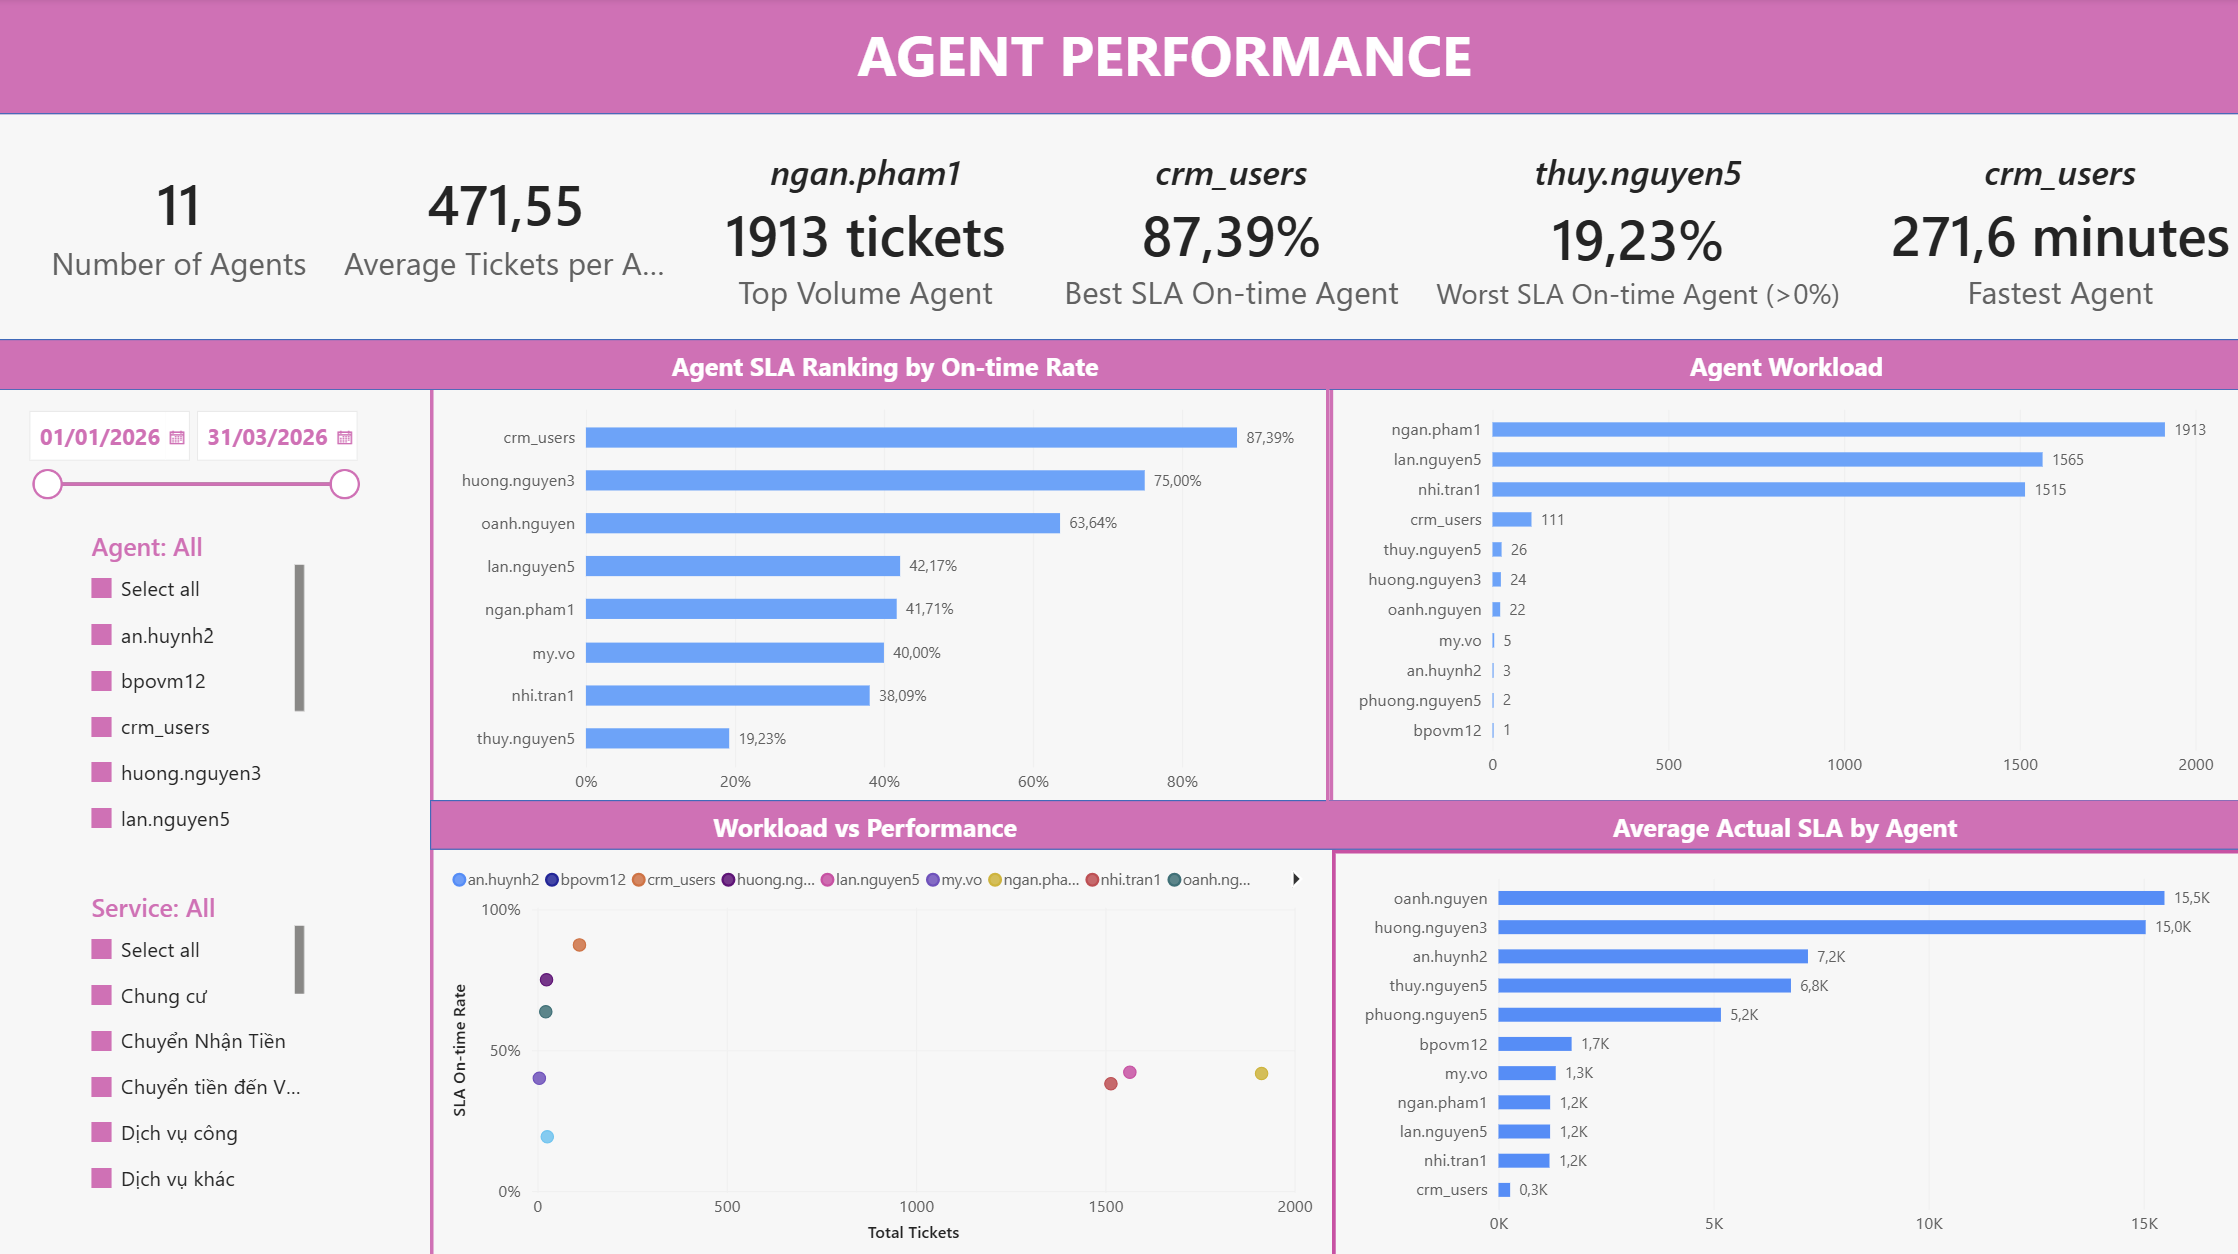

The dashboard page shown, as its layout file describes it:
{"tool":"powerbi","page":{"name":"Agent Performance","canvas":[1920,1080],"ordinal":1},"visuals":[{"type":"cardVisual","fields":{"Data":["Count(Ticket_SLA.Agent_tiep_nhan)"]},"box":[0,97.5,312.5,192.5],"z":0},{"type":"clusteredBarChart","fields":{"Category":["Ticket_SLA.Agent_tiep_nhan"],"Y":["Ticket_SLA.SLA On-time Rate"]},"box":[369.4,328.1,770.4,374.3],"z":1000},{"type":"shape","box":[0,291.6,1920,43.7],"z":2000},{"type":"textbox","box":[400.8,300,715,39.2],"z":3000},{"type":"shape","box":[0,0,1920,100],"z":4000},{"type":"slicer","fields":{"Values":["Ticket_SLA.Created_date"]},"box":[20,348,293,92],"z":5000},{"type":"textbox","box":[1134.2,300,785.8,30],"z":6000},{"type":"textbox","box":[480,15,1035,82.5],"z":7000},{"type":"scatterChart","fields":{"Category":["Ticket_SLA.Agent_tiep_nhan"],"Series":["Ticket_SLA.Agent_tiep_nhan"],"X":["Ticket_SLA.Total Tickets"],"Y":["Ticket_SLA.SLA On-time Rate"]},"box":[370,720,772.5,360],"z":8000},{"type":"shape","box":[370,685,1550,42.5],"z":9000},{"type":"clusteredBarChart","fields":{"Category":["Ticket_SLA.Agent_tiep_nhan"],"Y":["Ticket_SLA.Total Tickets"]},"box":[1135,328.3,786.7,360],"z":10000},{"type":"clusteredBarChart","fields":{"Category":["Ticket_SLA.Agent_tiep_nhan"],"Y":["Avg(Ticket_SLA.Actual_SLA)"]},"box":[1139.8,726.7,780.2,352.4],"z":11000},{"type":"textbox","box":[370,692.5,742.5,35],"z":12000},{"type":"textbox","box":[1138.9,692.1,781.1,27.7],"z":13000},{"type":"cardVisual","fields":{"Data":["Ticket_SLA.Average Tickets per Agent"]},"box":[285,97.5,300,192.5],"z":17000},{"type":"cardVisual","fields":{"Data":["Ticket_SLA.Top Volume Agent","Ticket_SLA.Top Volume Agent Tickets"]},"box":[573.6,68.1,337.8,243],"z":18000},{"type":"cardVisual","fields":{"Data":["Ticket_SLA.Fastest Agent","Ticket_SLA.Fastest Agent Avg SLA"]},"box":[1601.6,68.1,318.4,243],"z":19000},{"type":"cardVisual","fields":{"Data":["Ticket_SLA.Best Agent","Ticket_SLA.Best Agent SLA Rate"]},"box":[884.7,68.1,337.8,243],"z":20000},{"type":"cardVisual","fields":{"Data":["Ticket_SLA.Worst Agent","Ticket_SLA.Worst Agent SLA Rate"]},"box":[1223.3,68.3,355,243.3],"z":21000},{"type":"slicer","fields":{"Values":["Ticket_SLA.Agent_tiep_nhan"]},"box":[72.9,454.5,189.6,272.2],"z":22000},{"type":"slicer","fields":{"Values":["Ticket_SLA.Level"]},"box":[72.9,760.7,189.6,274.6],"z":23000}]}

Visuals, with their boxes in screenshot pixels (x1, y1, x2, y2), scaled from the page's 1920x1080 canvas onto the 2238x1254 screenshot:
cardVisual - Count(Ticket_SLA.Agent_tiep_nhan): {"x1": 0, "y1": 113, "x2": 364, "y2": 337}
clusteredBarChart - Ticket_SLA.Agent_tiep_nhan x Ticket_SLA.SLA On-time Rate: {"x1": 431, "y1": 381, "x2": 1329, "y2": 816}
shape: {"x1": 0, "y1": 339, "x2": 2237, "y2": 389}
textbox: {"x1": 467, "y1": 348, "x2": 1301, "y2": 394}
shape: {"x1": 0, "y1": 0, "x2": 2237, "y2": 116}
slicer - Ticket_SLA.Created_date: {"x1": 23, "y1": 404, "x2": 365, "y2": 511}
textbox: {"x1": 1322, "y1": 348, "x2": 2237, "y2": 383}
textbox: {"x1": 560, "y1": 17, "x2": 1766, "y2": 113}
scatterChart - Ticket_SLA.Agent_tiep_nhan x Ticket_SLA.Agent_tiep_nhan: {"x1": 431, "y1": 836, "x2": 1332, "y2": 1253}
shape: {"x1": 431, "y1": 795, "x2": 2237, "y2": 845}
clusteredBarChart - Ticket_SLA.Agent_tiep_nhan x Ticket_SLA.Total Tickets: {"x1": 1323, "y1": 381, "x2": 2237, "y2": 799}
clusteredBarChart - Ticket_SLA.Agent_tiep_nhan x Avg(Ticket_SLA.Actual_SLA): {"x1": 1329, "y1": 844, "x2": 2237, "y2": 1253}
textbox: {"x1": 431, "y1": 804, "x2": 1297, "y2": 845}
textbox: {"x1": 1328, "y1": 804, "x2": 2237, "y2": 836}
cardVisual - Ticket_SLA.Average Tickets per Agent: {"x1": 332, "y1": 113, "x2": 682, "y2": 337}
cardVisual - Ticket_SLA.Top Volume Agent x Ticket_SLA.Top Volume Agent Tickets: {"x1": 669, "y1": 79, "x2": 1062, "y2": 361}
cardVisual - Ticket_SLA.Fastest Agent x Ticket_SLA.Fastest Agent Avg SLA: {"x1": 1867, "y1": 79, "x2": 2237, "y2": 361}
cardVisual - Ticket_SLA.Best Agent x Ticket_SLA.Best Agent SLA Rate: {"x1": 1031, "y1": 79, "x2": 1425, "y2": 361}
cardVisual - Ticket_SLA.Worst Agent x Ticket_SLA.Worst Agent SLA Rate: {"x1": 1426, "y1": 79, "x2": 1840, "y2": 362}
slicer - Ticket_SLA.Agent_tiep_nhan: {"x1": 85, "y1": 528, "x2": 306, "y2": 844}
slicer - Ticket_SLA.Level: {"x1": 85, "y1": 883, "x2": 306, "y2": 1202}
